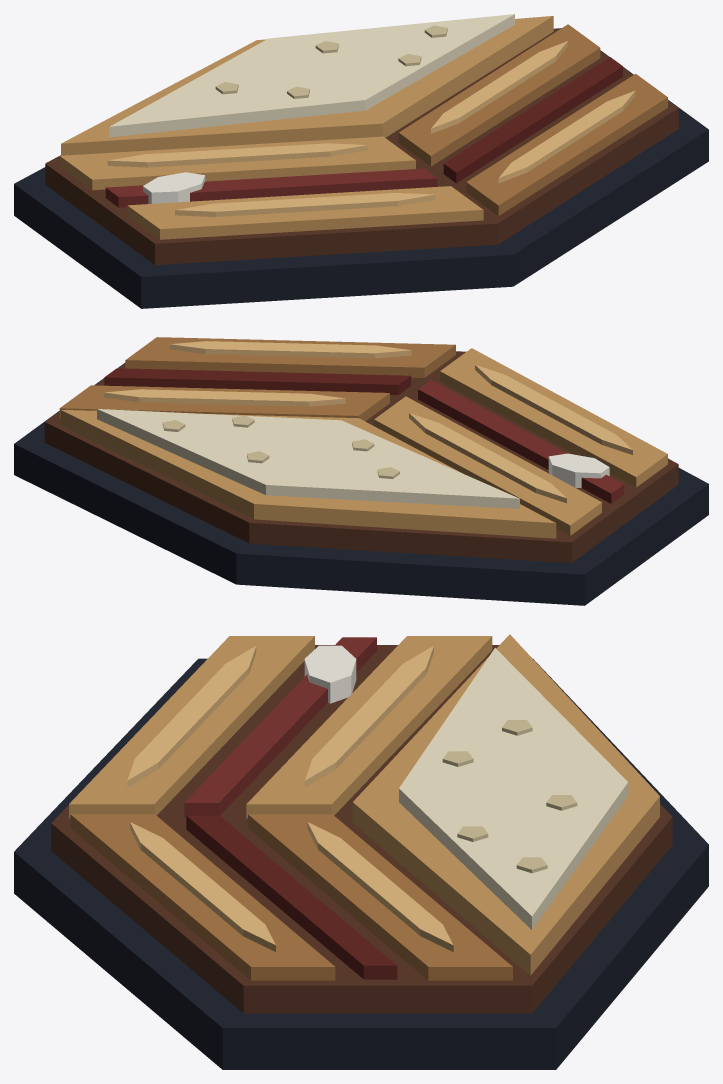
The model's file is sandwich.fbx.
The picture shows the model from 3 angles, top to bottom: view 1: azimuth 30°, elevation 25°; view 2: azimuth 150°, elevation 25°; view 3: azimuth 270°, elevation 25°; orthographic projection. The views are drawn at different scales.
Parts seen in each view (by area): view 1: sandwich; view 2: sandwich; view 3: sandwich.
Part boxes in pixels (x1,y1,x2,y2): sandwich: (14, 14, 708, 308); sandwich: (14, 337, 708, 605); sandwich: (14, 634, 708, 1069).
Size of the model in its own units: 1.14 by 0.155 by 0.9034.
Materials: 1 (1 with a texture image).
